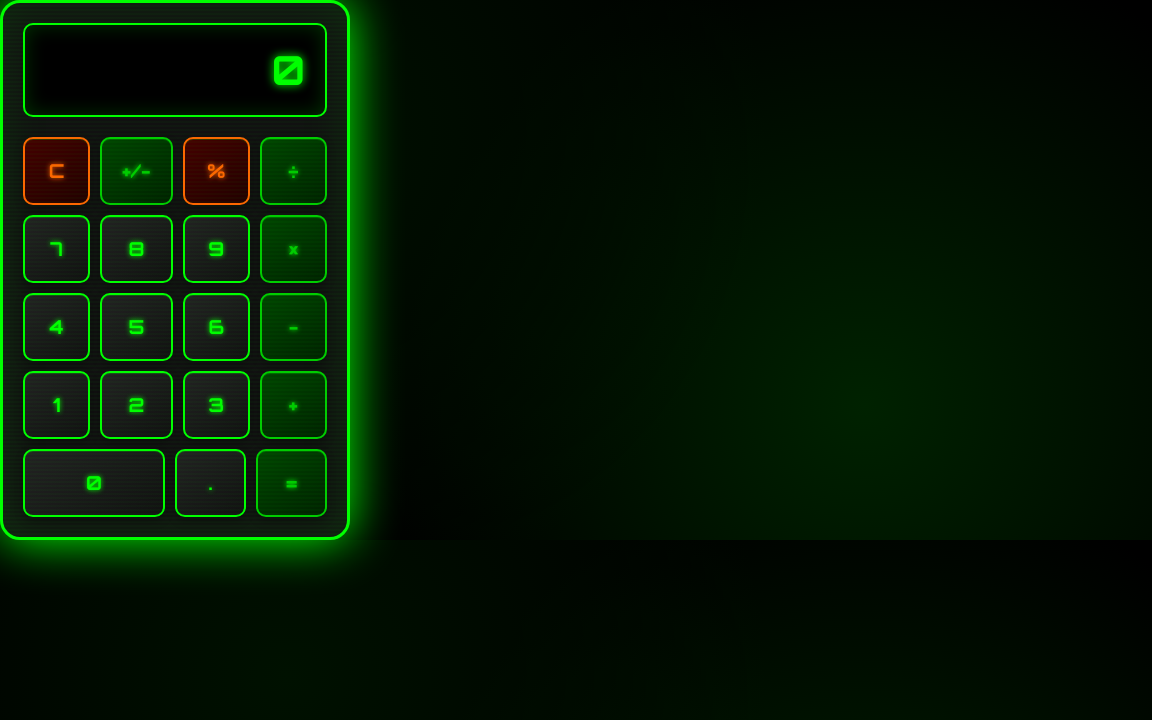
Calculator Component › displays numbers when buttons are pressed
This screenshot has width=1152, height=720.
Click the button "1": (57, 405) top-left (23, 371), bottom-right (90, 439)
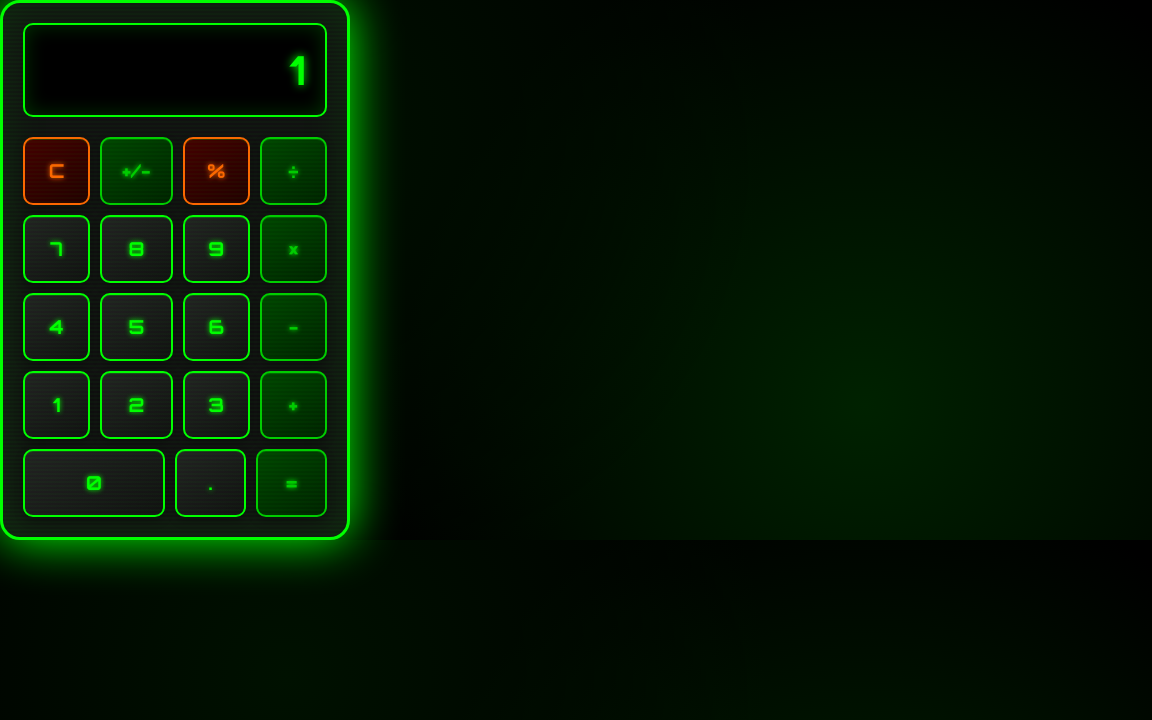
Click the button "2": (136, 405) top-left (100, 371), bottom-right (173, 439)
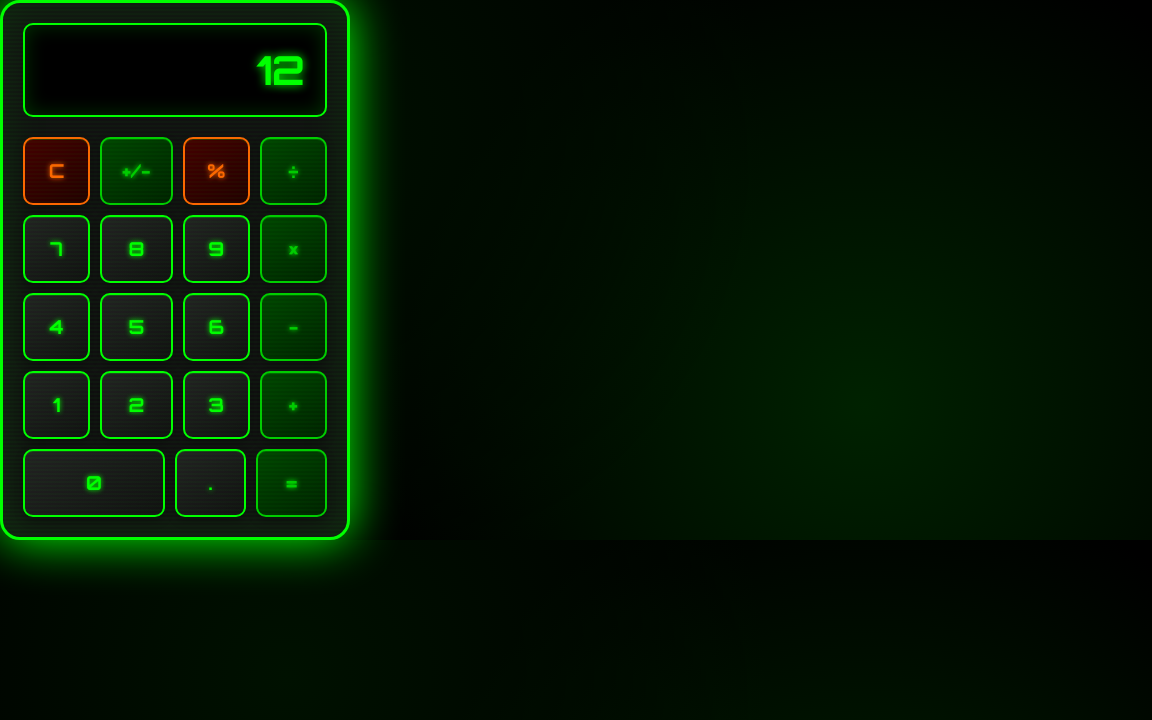
Check: the text with class "display" reads "12", box top-left (256, 45), bottom-right (305, 95)
